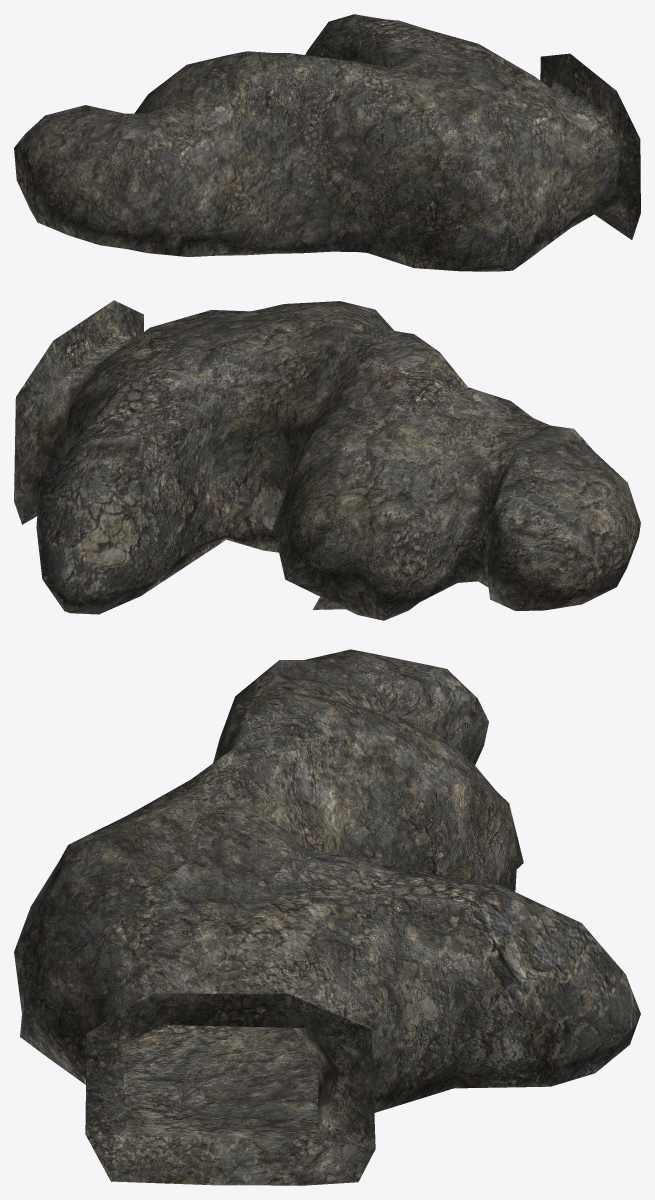
Rendered from Cave37.fbx.
3 renders of one model, top to bottom at view 1: azimuth 30°, elevation 25°; view 2: azimuth 150°, elevation 25°; view 3: azimuth 270°, elevation 25°, orthographic. The views are drawn at different scales.
Visible parts, largest first — view 1: Cave37; view 2: Cave37; view 3: Cave37.
Boxes of the visible parts, x1,y1,x2,y2 form: Cave37: [14, 14, 640, 271]; Cave37: [14, 300, 640, 620]; Cave37: [14, 649, 640, 1185].
Size of the model in its own units: 288 by 112 by 223.
